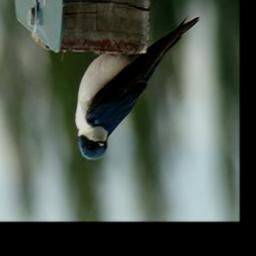Swallow: (74, 15, 200, 161)
